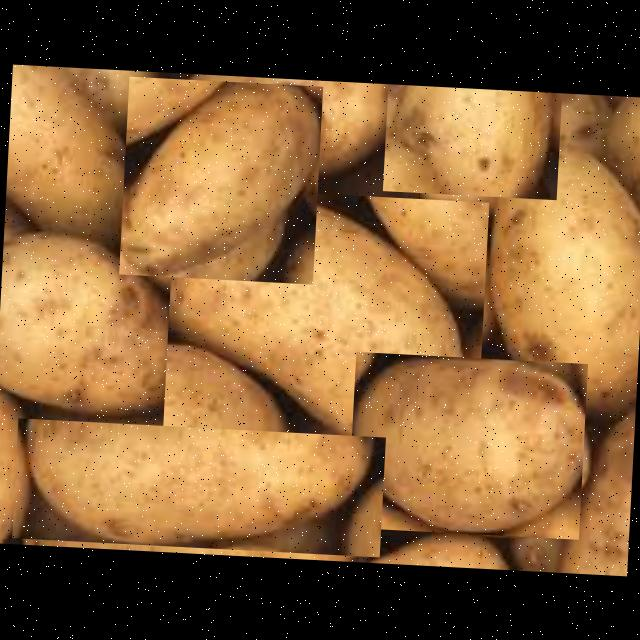Potato: (162, 186, 490, 452), (12, 418, 386, 558), (347, 352, 588, 540), (482, 141, 640, 411), (119, 76, 323, 284), (0, 217, 184, 421), (383, 83, 562, 200)
